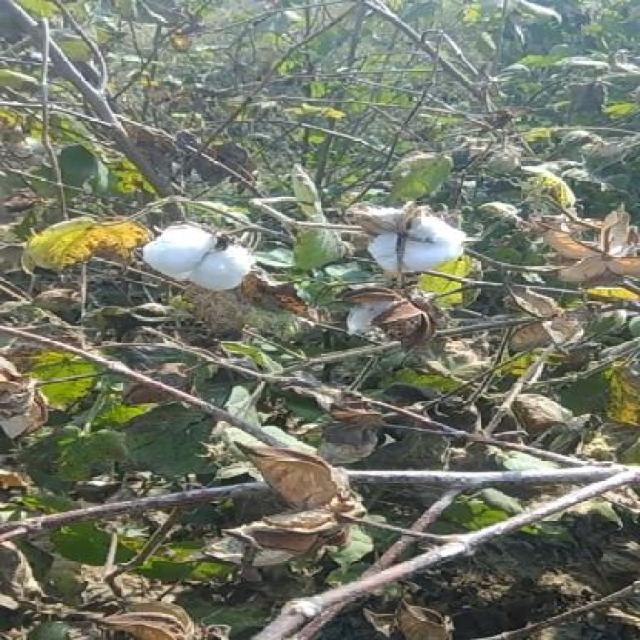cotton_ready: (122, 218, 261, 317), (342, 197, 480, 292)
